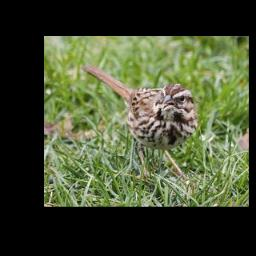Sparrow: (79, 63, 200, 172)
